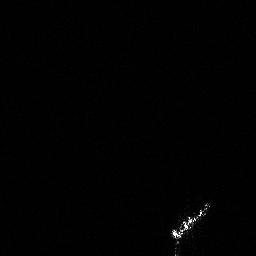ship: (167, 197, 214, 245)
